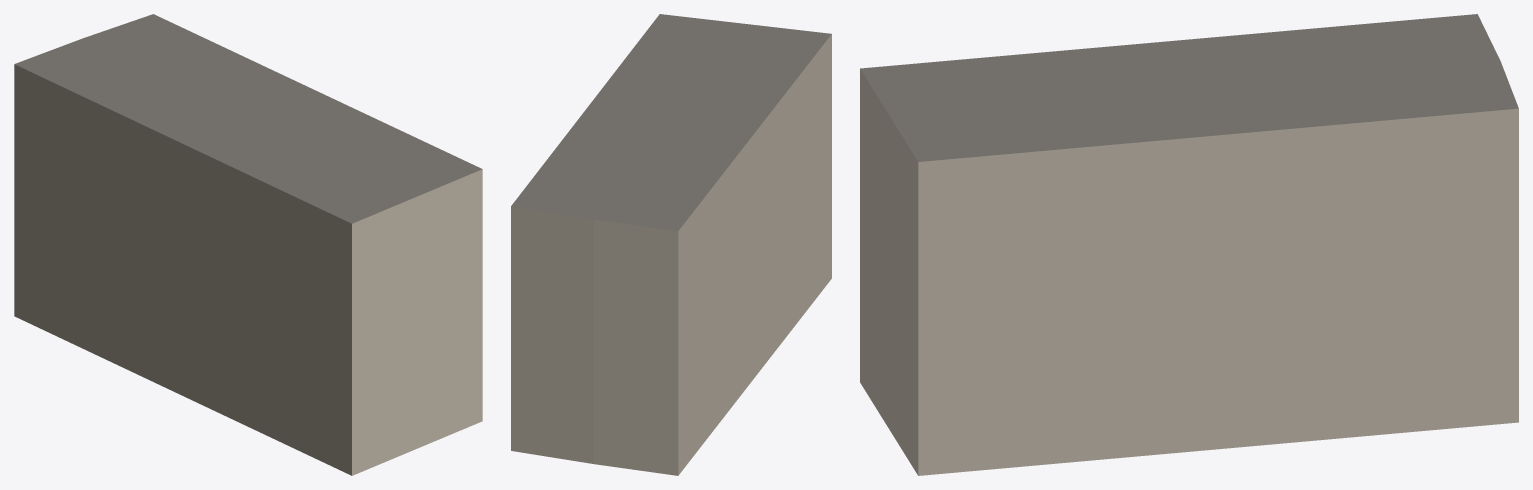
The picture shows the model from 3 angles, left to right: view 1: azimuth 30°, elevation 25°; view 2: azimuth 150°, elevation 25°; view 3: azimuth 270°, elevation 25°; orthographic projection. The views are drawn at different scales.
Visible parts, largest first — view 1: HP-w505646898; view 2: HP-w505646898; view 3: HP-w505646898.
Boxes of the visible parts, x1,y1,x2,y2 form: HP-w505646898: (14, 14, 482, 475); HP-w505646898: (511, 14, 831, 475); HP-w505646898: (860, 14, 1518, 475).
Size of the model in its own units: 12.14 by 12 by 22.83.
